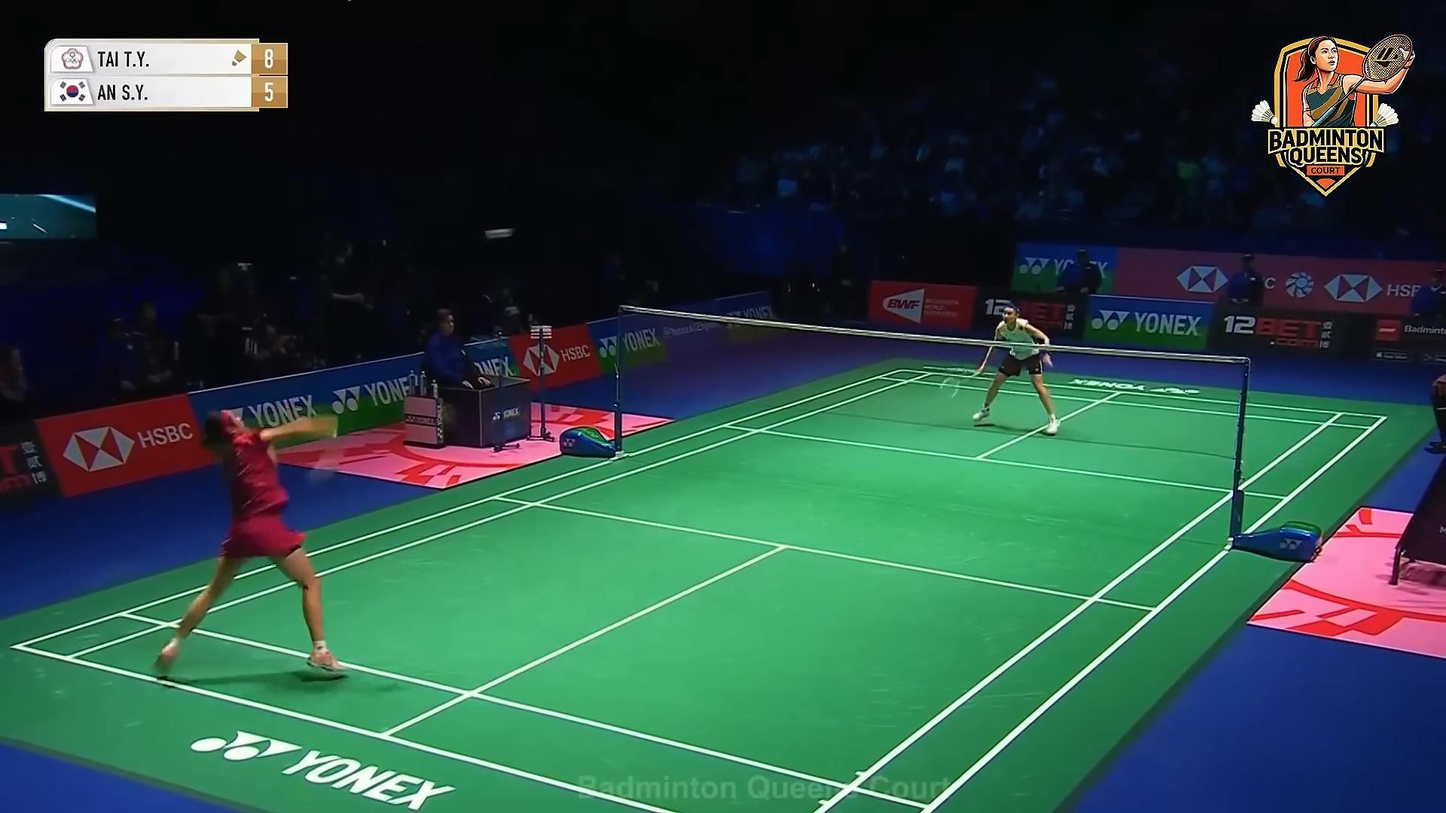shuttlecock: (483, 227, 512, 240)
